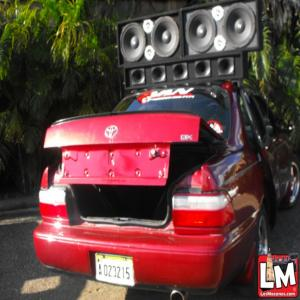Vehicle-registration-plate: (95, 263, 136, 286)
